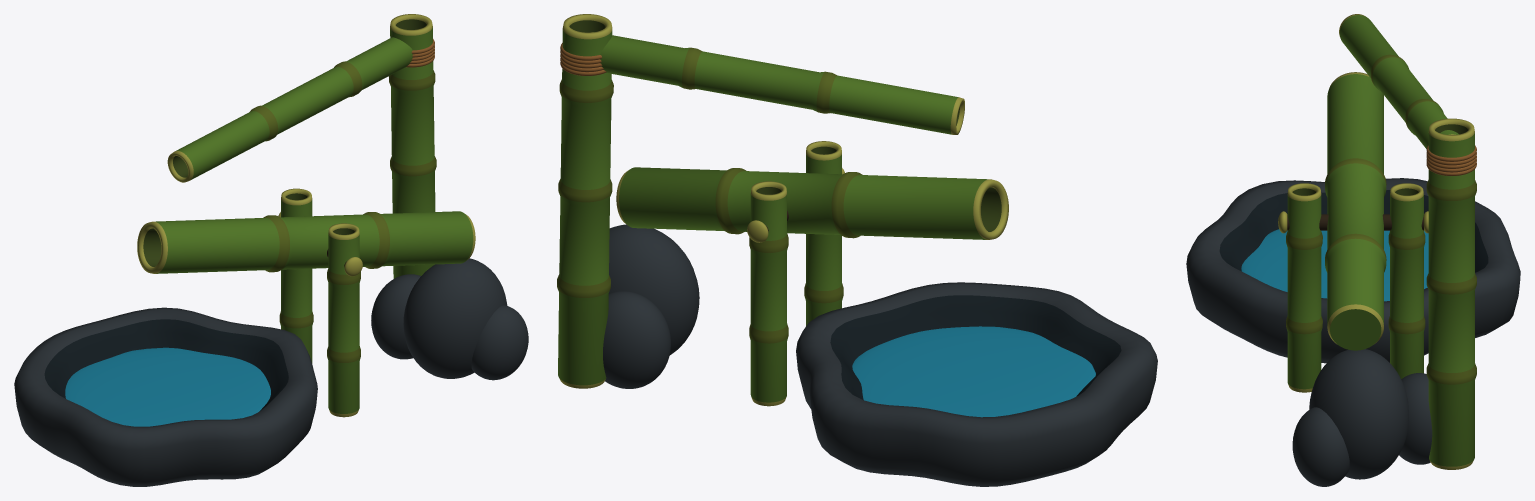
Rendered from Bamboo_Fountain.obj.
3 views of the same model, side by side, from view 1: azimuth 30°, elevation 25°; view 2: azimuth 150°, elevation 25°; view 3: azimuth 270°, elevation 25° (orthographic). The views are drawn at different scales.
Parts seen in each view (by area): view 1: Carved_stone_basin, Hollow_tipping_tube, Basin_water, Supply_spout, Counterweight_stop_stone, Tall_supply_post, Pivot_stand, Pivot_stand.001, Counterweight_stop_stone.002, Counterweight_stop_stone.001; view 2: Carved_stone_basin, Hollow_tipping_tube, Tall_supply_post, Basin_water, Supply_spout, Pivot_stand.001, Counterweight_stop_stone, Counterweight_stop_stone.001, Pivot_stand; view 3: Carved_stone_basin, Tall_supply_post, Hollow_tipping_tube, Counterweight_stop_stone, Pivot_stand, Pivot_stand.001, Supply_spout, Counterweight_stop_stone.002, Basin_water, Counterweight_stop_stone.001.
Part boxes in pixels (box(x1,y1,x2,y2)): Carved_stone_basin: box(14, 307, 317, 486); Hollow_tipping_tube: box(137, 211, 475, 273); Basin_water: box(65, 347, 270, 426); Supply_spout: box(167, 37, 412, 182); Counterweight_stop_stone: box(403, 258, 507, 378); Tall_supply_post: box(388, 14, 436, 278); Pivot_stand: box(327, 223, 360, 417); Pivot_stand.001: box(279, 188, 313, 363); Counterweight_stop_stone.002: box(471, 305, 528, 380); Counterweight_stop_stone.001: box(371, 274, 420, 359); Carved_stone_basin: box(796, 282, 1157, 486); Hollow_tipping_tube: box(616, 167, 1008, 239); Tall_supply_post: box(557, 14, 613, 388); Basin_water: box(852, 326, 1095, 417); Supply_spout: box(591, 32, 964, 134); Pivot_stand.001: box(749, 181, 788, 406); Counterweight_stop_stone: box(608, 224, 699, 355); Counterweight_stop_stone.001: box(603, 291, 670, 388); Pivot_stand: box(804, 141, 843, 325); Carved_stone_basin: box(1186, 178, 1520, 363); Tall_supply_post: box(1426, 118, 1476, 469); Hollow_tipping_tube: box(1325, 72, 1386, 350); Counterweight_stop_stone: box(1309, 349, 1408, 479); Pivot_stand: box(1286, 183, 1322, 392); Pivot_stand.001: box(1388, 183, 1425, 379); Supply_spout: box(1339, 14, 1458, 148); Counterweight_stop_stone.002: box(1292, 407, 1349, 486); Basin_water: box(1241, 229, 1428, 301); Counterweight_stop_stone.001: box(1399, 373, 1432, 464).
Size of the model in its own units: 3.31 by 2.15 by 1.88.
